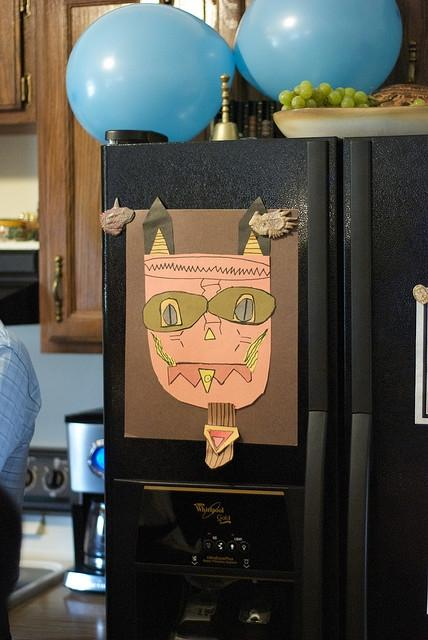grape: (278, 90, 294, 106), (328, 90, 342, 106), (318, 83, 332, 96), (292, 95, 305, 108), (354, 92, 367, 105), (342, 87, 356, 99), (300, 87, 312, 99), (304, 97, 317, 108), (340, 98, 354, 108), (334, 87, 346, 97), (300, 80, 314, 88), (414, 98, 426, 106), (354, 104, 369, 108)
